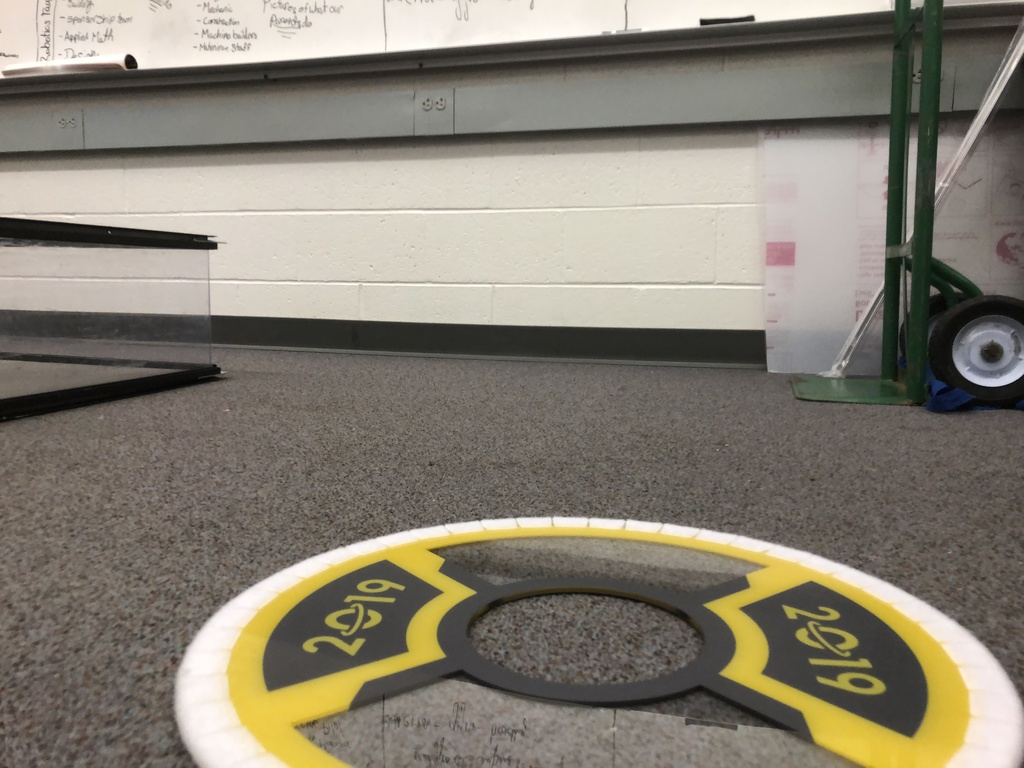hatch_panel: (148, 513, 1024, 768)
